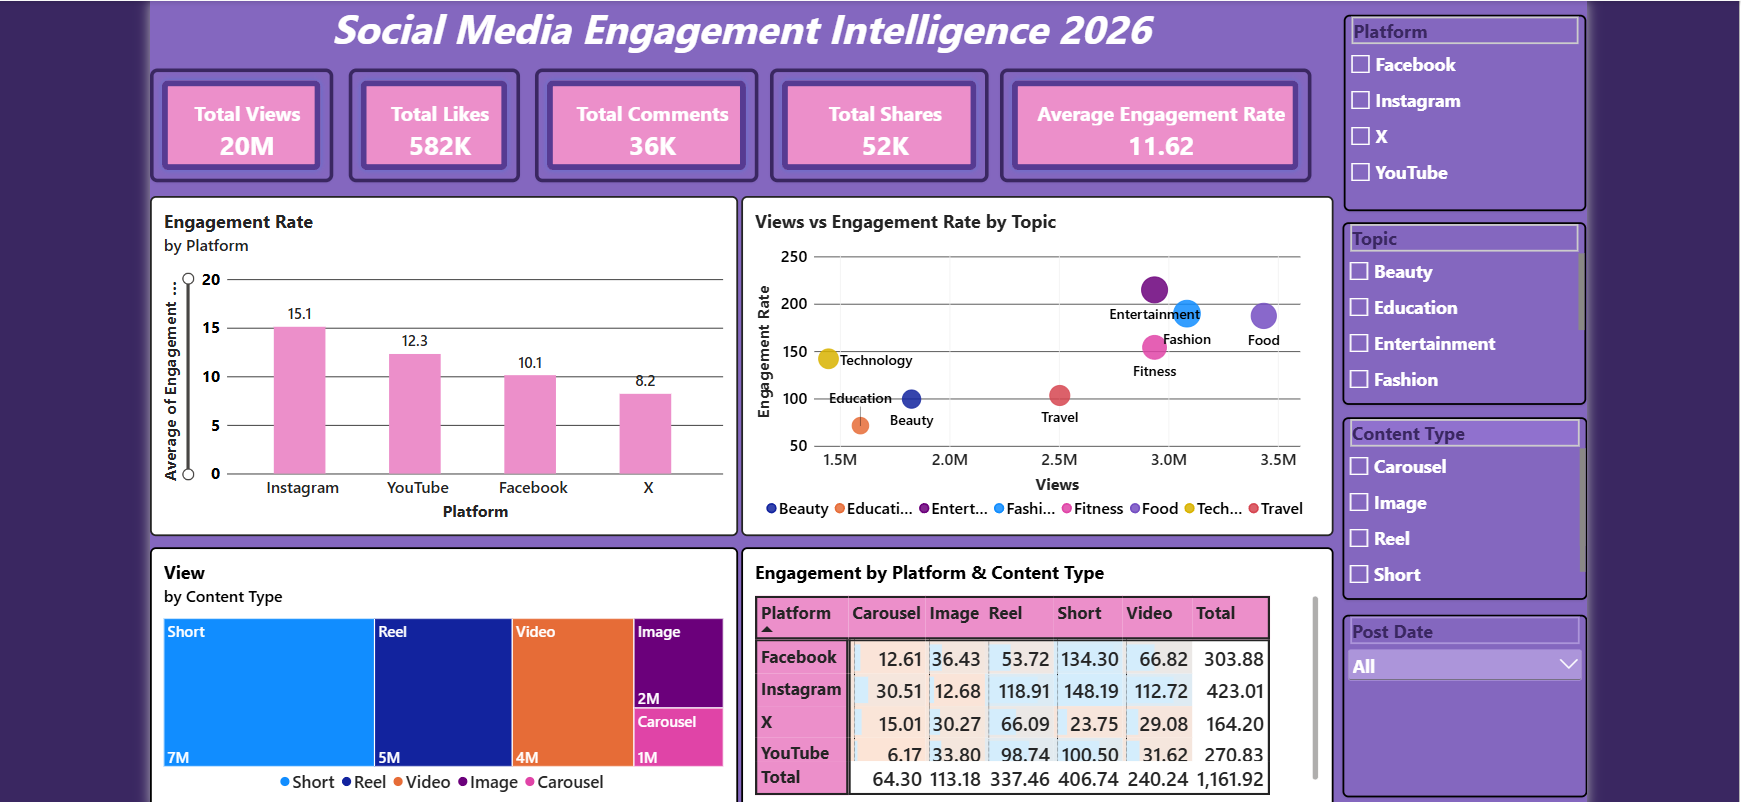

Layout of this report page (visuals, bound fields, positions):
{"tool":"powerbi","page":{"name":"Page 1","canvas":[1920,1080],"ordinal":0},"visuals":[{"type":"cardVisual","fields":{"Data":["Sum(social_media_engagement social_media_engagement_intelligence_2026.Views)"]},"box":[0,90.6,244.9,152.3],"z":0},{"type":"cardVisual","fields":{"Data":["Avg(social_media_engagement social_media_engagement_intelligence_2026.Engagement_Rate_%)"]},"box":[1136.2,90.6,415.8,152.3],"z":1000},{"type":"cardVisual","fields":{"Data":["Sum(social_media_engagement social_media_engagement_intelligence_2026.Shares)"]},"box":[827.4,90.6,292.3,152.3],"z":2000},{"type":"cardVisual","fields":{"Data":["Sum(social_media_engagement social_media_engagement_intelligence_2026.Comments)"]},"box":[514.6,90.6,298.5,152.3],"z":3000},{"type":"cardVisual","fields":{"Data":["Sum(social_media_engagement social_media_engagement_intelligence_2026.Likes)"]},"box":[265.5,90.6,228.5,152.3],"z":4000},{"type":"textbox","box":[0,0,1579.4,71.1],"z":5000},{"type":"clusteredColumnChart","title":"Engagement Rate","fields":{"Category":["social_media_engagement social_media_engagement_intelligence_2026.Platform"],"Y":["Avg(social_media_engagement social_media_engagement_intelligence_2026.Engagement_Rate_%)"]},"box":[0,260.6,785.4,454.2],"z":6000},{"type":"treemap","title":"View  ","fields":{"Group":["social_media_engagement social_media_engagement_intelligence_2026.Content_Type"],"Values":["Sum(social_media_engagement social_media_engagement_intelligence_2026.Views)"]},"box":[0,729.3,785.4,351.1],"z":7000},{"type":"scatterChart","title":"Views vs Engagement Rate by Topic","fields":{"Series":["social_media_engagement social_media_engagement_intelligence_2026.Topic"],"Size":["Sum(social_media_engagement social_media_engagement_intelligence_2026.Likes)"],"X":["Sum(social_media_engagement social_media_engagement_intelligence_2026.Views)"],"Y":["Sum(social_media_engagement social_media_engagement_intelligence_2026.Engagement_Rate_%)"]},"box":[789,260.6,790.8,454.2],"z":8000},{"type":"pivotTable","title":"Engagement by Platform & Content Type ","fields":{"Columns":["social_media_engagement social_media_engagement_intelligence_2026.Content_Type"],"Rows":["social_media_engagement social_media_engagement_intelligence_2026.Platform"],"Values":["Sum(social_media_engagement social_media_engagement_intelligence_2026.Engagement_Rate_%)"]},"box":[789,729.3,790.8,351.1],"z":9000},{"type":"slicer","fields":{"Values":["social_media_engagement social_media_engagement_intelligence_2026.Platform"]},"box":[1594.3,18.1,323.9,262.4],"z":10000},{"type":"slicer","fields":{"Values":["social_media_engagement social_media_engagement_intelligence_2026.Topic"]},"box":[1592.5,295,325.7,244.3],"z":11000},{"type":"slicer","fields":{"Values":["social_media_engagement social_media_engagement_intelligence_2026.Content_Type"]},"box":[1592.5,555.6,327.5,244.3],"z":12000},{"type":"slicer","fields":{"Values":["social_media_engagement social_media_engagement_intelligence_2026.Post_Date"]},"box":[1592.5,819.8,327.5,244.3],"z":13000}]}

Visuals, with their boxes in screenshot pixels (x1, y1, x2, y2):
cardVisual - Sum(social_media_engagement social_media_engagement_intelligence_2026.Views): box=[163, 75, 343, 187]
cardVisual - Avg(social_media_engagement social_media_engagement_intelligence_2026.Engagement_Rate_%): box=[996, 75, 1300, 187]
cardVisual - Sum(social_media_engagement social_media_engagement_intelligence_2026.Shares): box=[770, 75, 984, 187]
cardVisual - Sum(social_media_engagement social_media_engagement_intelligence_2026.Comments): box=[540, 75, 759, 187]
cardVisual - Sum(social_media_engagement social_media_engagement_intelligence_2026.Likes): box=[358, 75, 525, 187]
textbox: box=[163, 9, 1321, 61]
"Engagement Rate" clusteredColumnChart: box=[163, 200, 739, 533]
"View  " treemap: box=[163, 543, 739, 801]
"Views vs Engagement Rate by Topic" scatterChart: box=[741, 200, 1321, 533]
"Engagement by Platform & Content Type " pivotTable: box=[741, 543, 1321, 801]
slicer - social_media_engagement social_media_engagement_intelligence_2026.Platform: box=[1331, 22, 1569, 215]
slicer - social_media_engagement social_media_engagement_intelligence_2026.Topic: box=[1330, 225, 1569, 404]
slicer - social_media_engagement social_media_engagement_intelligence_2026.Content_Type: box=[1330, 416, 1570, 595]
slicer - social_media_engagement social_media_engagement_intelligence_2026.Post_Date: box=[1330, 610, 1570, 789]
